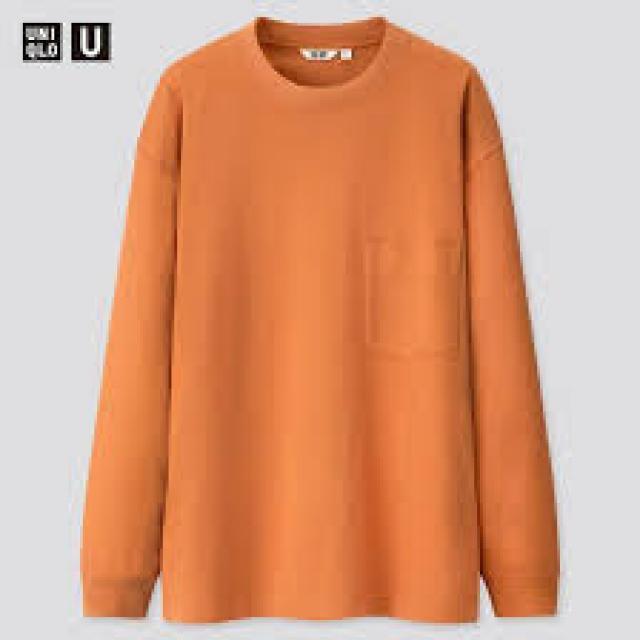plain: (63, 11, 570, 640)
